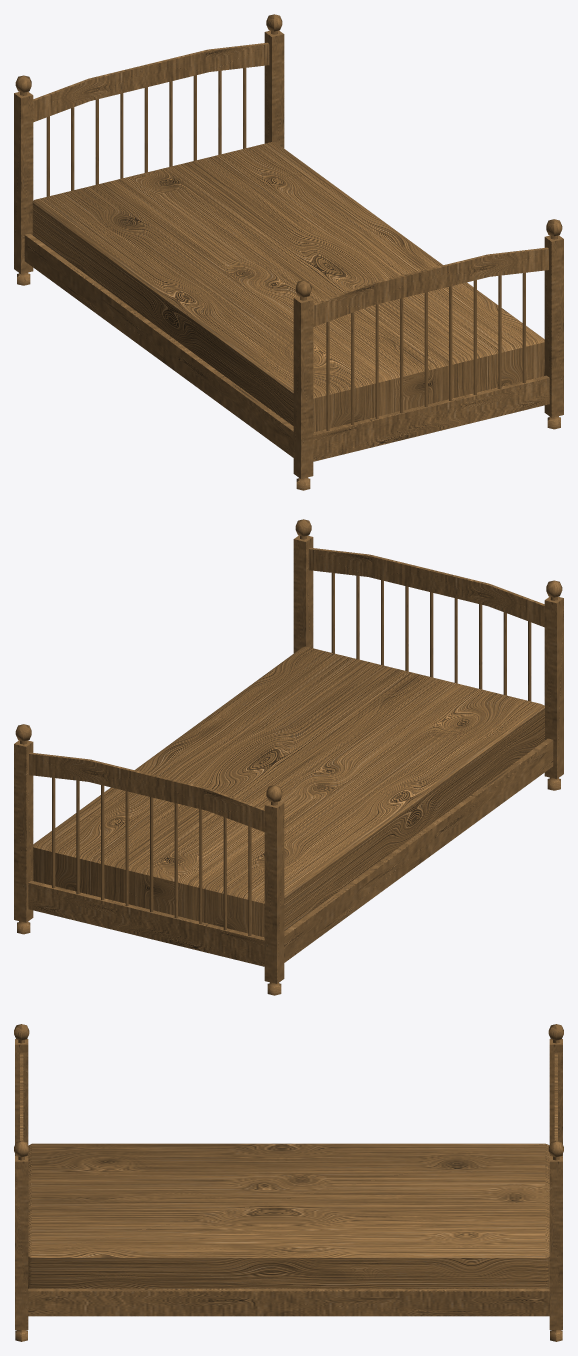
The model's file is bed.dae.
3 views of the same model, one above another, from view 1: azimuth 30°, elevation 25°; view 2: azimuth 150°, elevation 25°; view 3: azimuth 270°, elevation 25° (orthographic). The views are drawn at different scales.
Visible parts, largest first — view 1: dusek, drv, clnd; view 2: dusek, drv, clnd; view 3: dusek, drv.
Boxes of the visible parts, bbox=[...] form: dusek: bbox=[32, 141, 544, 432]; drv: bbox=[14, 14, 563, 490]; clnd: bbox=[46, 68, 525, 430]; dusek: bbox=[33, 646, 544, 937]; drv: bbox=[14, 519, 563, 995]; clnd: bbox=[52, 573, 531, 935]; dusek: bbox=[28, 1143, 550, 1288]; drv: bbox=[14, 1024, 563, 1341].
Bounding box in the file's own units: 217 × 406 × 161.
